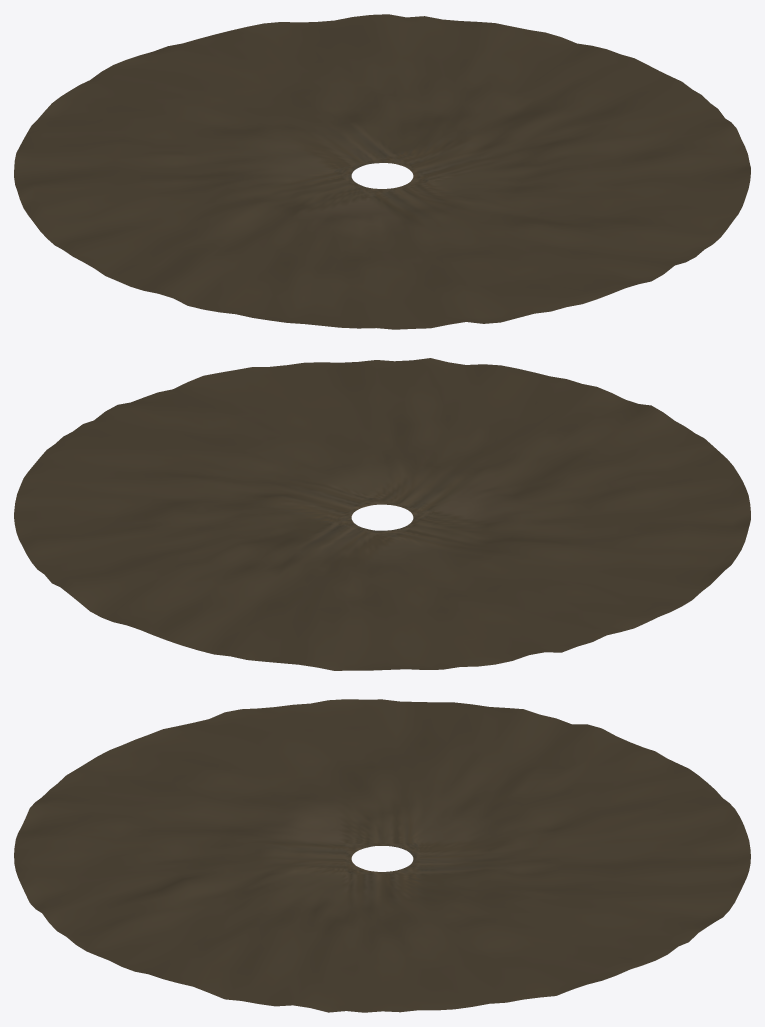
The model's file is ani-katedrali-skirt.glb.
3 views of the same model, one above another, from view 1: azimuth 30°, elevation 25°; view 2: azimuth 150°, elevation 25°; view 3: azimuth 270°, elevation 25° (orthographic).
Parts seen in each view (by area): view 1: ani-katedrali-skirt; view 2: ani-katedrali-skirt; view 3: ani-katedrali-skirt.
Part boxes in pixels (x1,y1,x2,y2): ani-katedrali-skirt: (14,14,750,329); ani-katedrali-skirt: (14,358,750,670); ani-katedrali-skirt: (14,699,750,1012).
Bounding box in the file's own units: 8400 × 86.61 × 8400.
